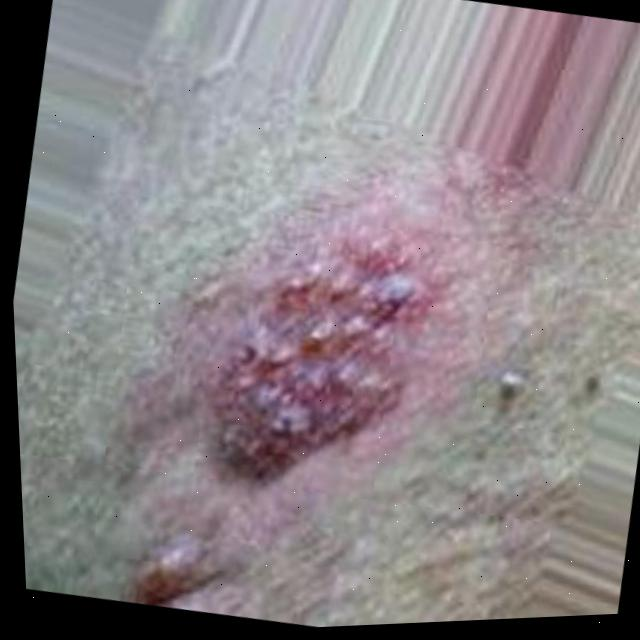Shingles: (201, 222, 456, 510)
